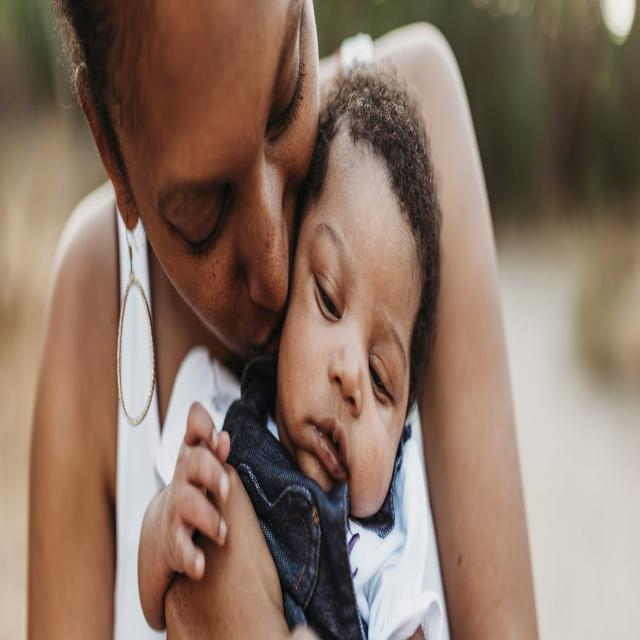non-dog: (25, 0, 541, 640), (137, 59, 452, 640)
